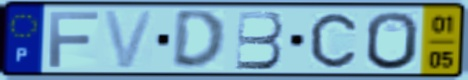B: (234, 9, 286, 72)
C: (308, 11, 360, 70)
D: (169, 8, 228, 72)
F: (47, 10, 101, 70)
O: (364, 9, 421, 72)
V: (100, 8, 158, 71)
